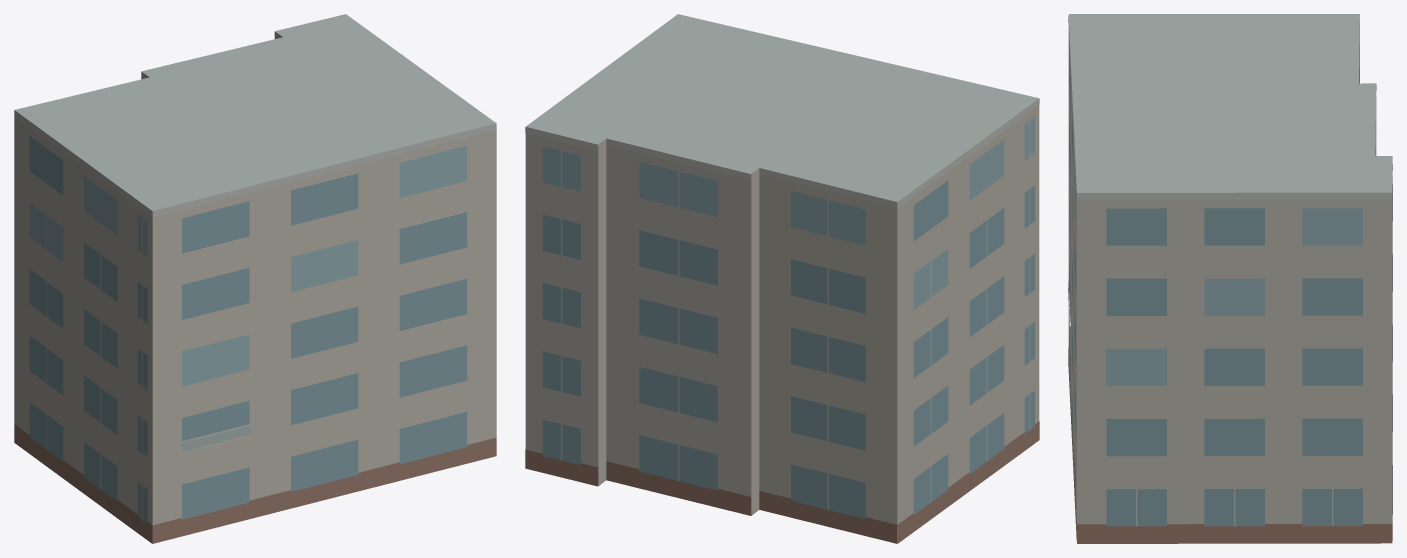
File: survey-upis-32730080.glb
The picture shows the model from 3 angles, left to right: view 1: azimuth 30°, elevation 25°; view 2: azimuth 150°, elevation 25°; view 3: azimuth 270°, elevation 25°; orthographic projection. The views are drawn at different scales.
Parts seen in each view (by area): view 1: survey-upis-32730080.tmp; view 2: survey-upis-32730080.tmp; view 3: survey-upis-32730080.tmp.
Boxes of the visible parts, x1=… form: survey-upis-32730080.tmp: x1=14, y1=14, x2=496, y2=543; survey-upis-32730080.tmp: x1=525, y1=14, x2=1039, y2=543; survey-upis-32730080.tmp: x1=1068, y1=14, x2=1392, y2=543.
Bounding box in the file's own units: 13.91 × 12.7 × 10.66.
